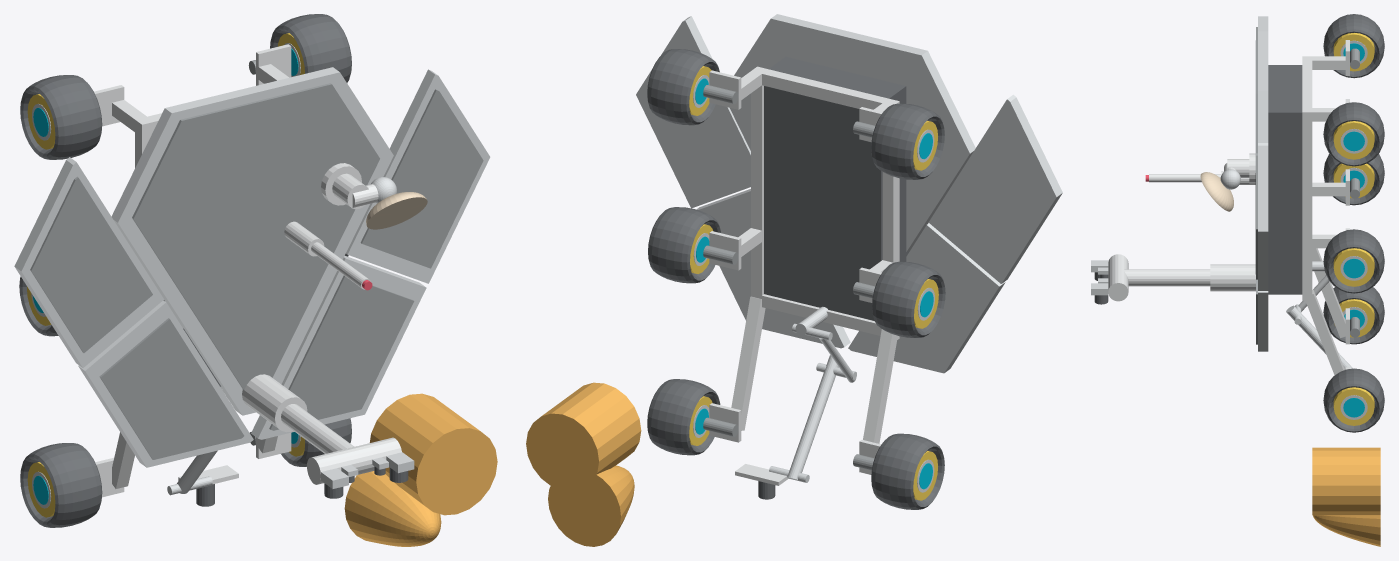
Rendered from exploration-rover.glb.
3 renders of one model, left to right at view 1: azimuth 30°, elevation 25°; view 2: azimuth 150°, elevation 25°; view 3: azimuth 270°, elevation 25°, orthographic. The views are drawn at different scales.
Parts seen in each view (by area): view 1: group_0_6383466, group_0_12568524, group_0_2829873, group_0_16089887, group_0_14541540, group_0_16758042, group_0_14860437, group_0_40919; view 2: group_0_12568524, group_0_2829873, group_0_14541540, group_0_16089887, group_0_16758042, group_0_6383466, group_0_40919; view 3: group_0_2829873, group_0_14541540, group_0_12568524, group_0_16089887, group_0_16758042, group_0_40919, group_0_6383466, group_0_14860437.
Boxes of the visible parts, left/top/right/bottom form: group_0_6383466: left=30, top=60, right=483, bottom=459; group_0_12568524: left=14, top=43, right=490, bottom=508; group_0_2829873: left=19, top=14, right=408, bottom=527; group_0_16089887: left=344, top=393, right=497, bottom=546; group_0_14541540: left=94, top=44, right=401, bottom=497; group_0_16758042: left=27, top=33, right=304, bottom=517; group_0_14860437: left=366, top=192, right=427, bottom=229; group_0_40919: left=32, top=48, right=298, bottom=504; group_0_12568524: left=636, top=14, right=1062, bottom=492; group_0_2829873: left=647, top=49, right=945, bottom=509; group_0_14541540: left=709, top=66, right=928, bottom=485; group_0_16089887: left=526, top=382, right=641, bottom=546; group_0_16758042: left=689, top=66, right=938, bottom=500; group_0_6383466: left=703, top=85, right=875, bottom=470; group_0_40919: left=695, top=78, right=933, bottom=489; group_0_2829873: left=1094, top=14, right=1384, bottom=432; group_0_14541540: left=1108, top=40, right=1349, bottom=375; group_0_12568524: left=1091, top=16, right=1367, bottom=419; group_0_16089887: left=1312, top=447, right=1380, bottom=546; group_0_16758042: left=1333, top=33, right=1374, bottom=425; group_0_40919: left=1343, top=43, right=1364, bottom=417; group_0_6383466: left=1255, top=27, right=1359, bottom=344; group_0_14860437: left=1200, top=172, right=1233, bottom=211.
Bounding box in the file's own units: 126 × 132 × 86.27.
